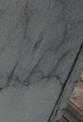fissura: (2, 0, 83, 100)
